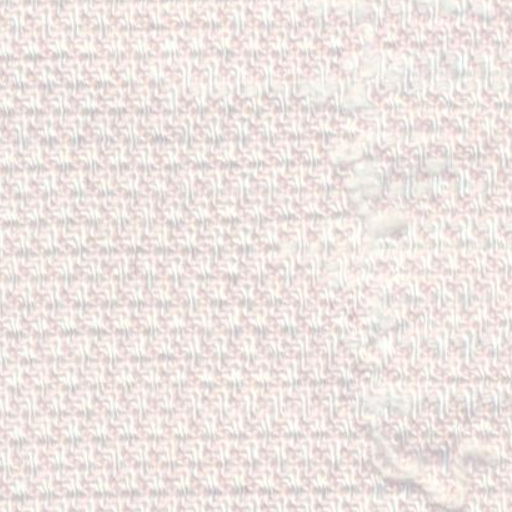DuanSha: (320, 28, 485, 506)
